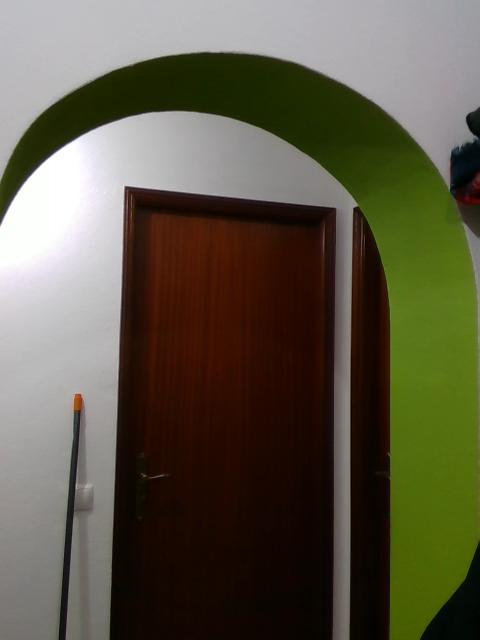door: (134, 211, 322, 636)
